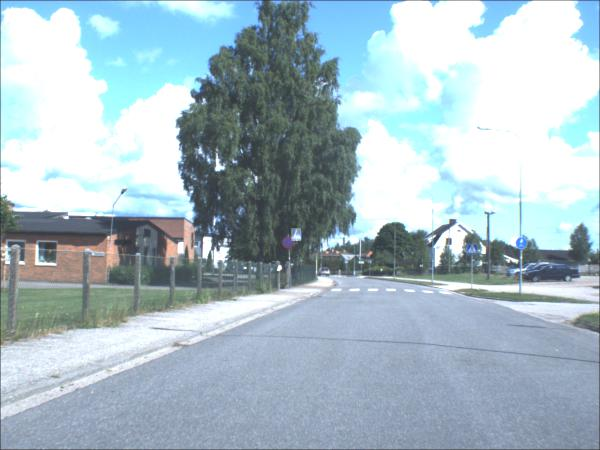NO_STOPPING_NO_STANDING: (282, 238, 294, 251)
PEDESTRIAN_CROSSING: (291, 229, 302, 243), (467, 245, 478, 257)
